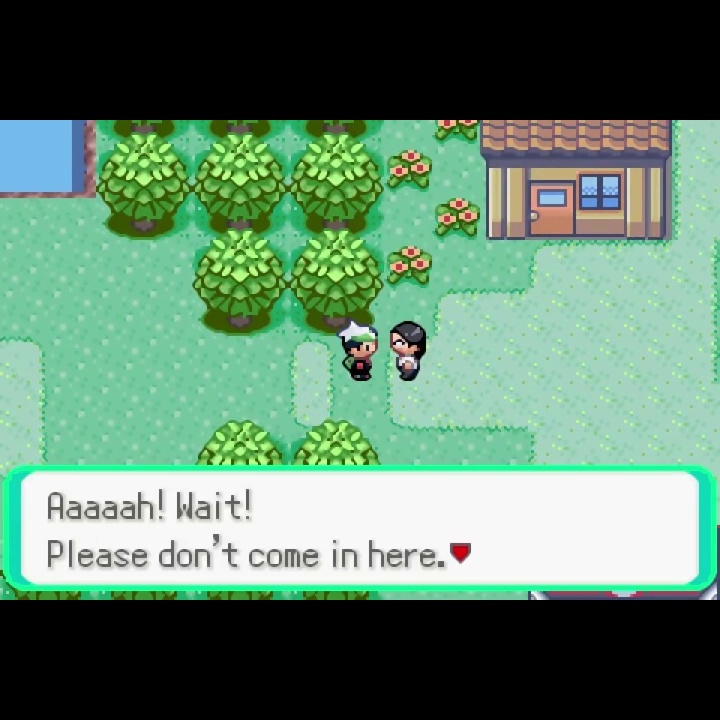house: (477, 120, 675, 243)
npc: (385, 318, 430, 383), (337, 318, 380, 386)
wall: (190, 228, 290, 337), (288, 227, 383, 338), (95, 134, 191, 241), (190, 134, 289, 228), (289, 135, 384, 230), (289, 418, 384, 465), (194, 420, 289, 465), (96, 120, 191, 143), (289, 120, 384, 142), (190, 121, 289, 142)
